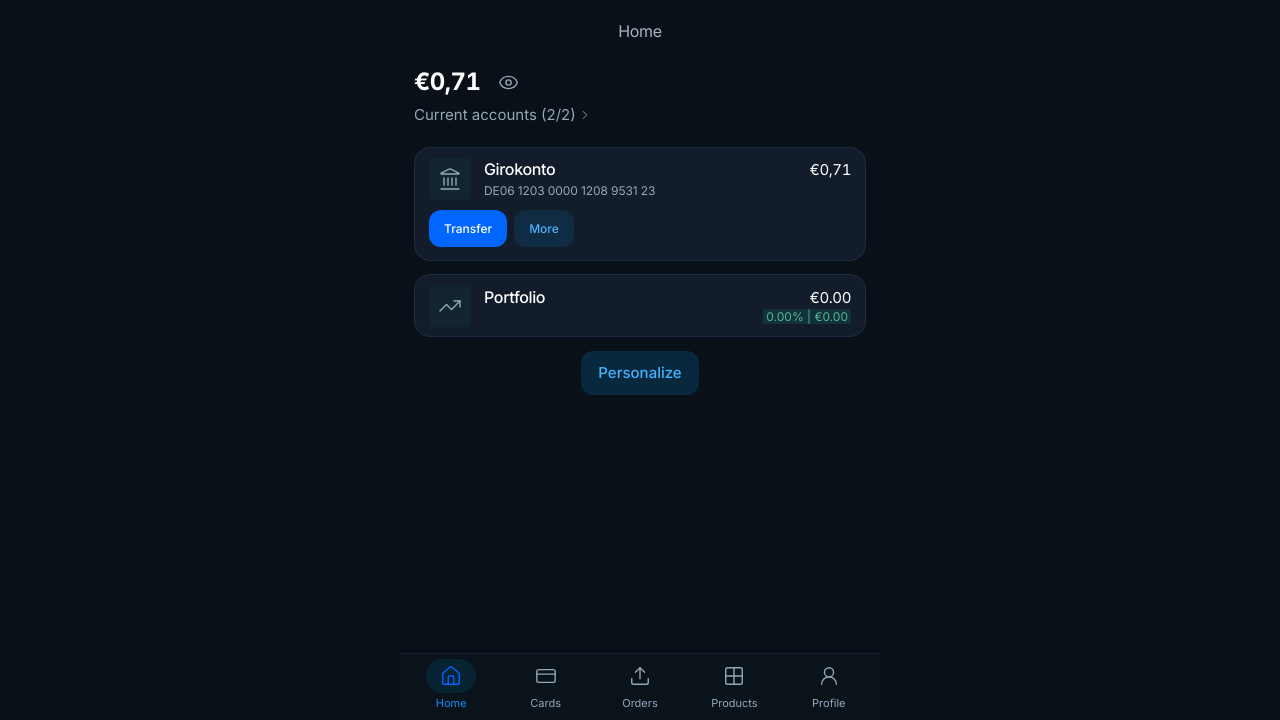
shared state and editors › opens the Home editor only after two seconds
Press the mouse on the button with aria-label "Home. Hold to edit balance." at {"x": 640, "y": 31}, box [605,9,675,53]
Wait 2000 ms
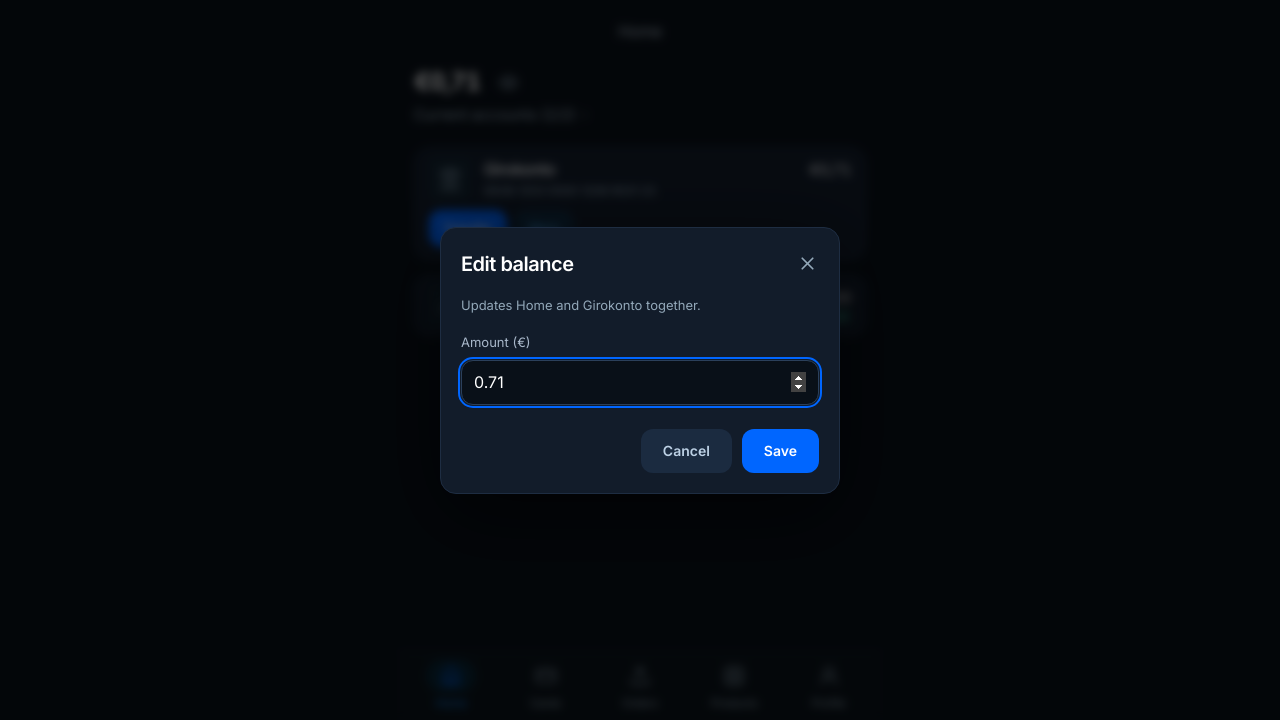
Now the dialog shows "Edit balance", box [461,252,574,276]
